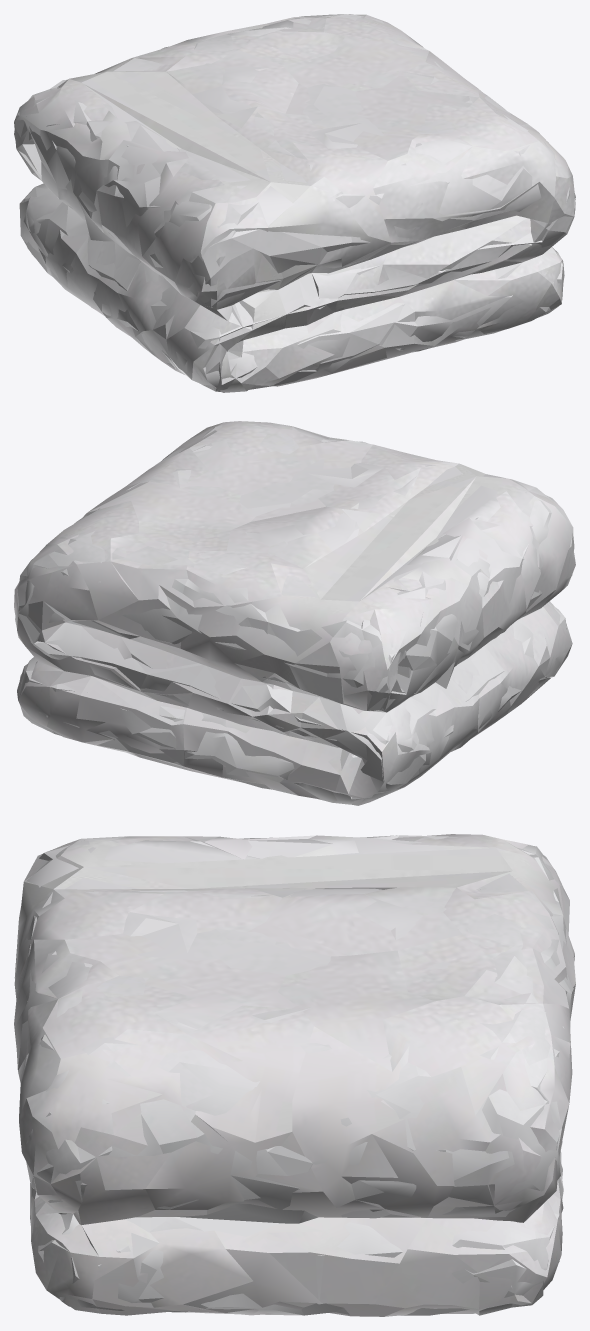
File: folded-towel-mobile.glb
The picture shows the model from 3 angles, top to bottom: view 1: azimuth 30°, elevation 25°; view 2: azimuth 150°, elevation 25°; view 3: azimuth 270°, elevation 25°; orthographic projection. The views are drawn at different scales.
Visible parts, largest first — view 1: output_unwrapped; view 2: output_unwrapped; view 3: output_unwrapped.
Boxes of the visible parts, x1=… form: output_unwrapped: x1=14, y1=14, x2=575, y2=392; output_unwrapped: x1=14, y1=421, x2=575, y2=805; output_unwrapped: x1=14, y1=834, x2=575, y2=1316.
Size of the model in its own units: 1.9 by 0.9848 by 1.76.
Materials: 1 (1 with a texture image).
